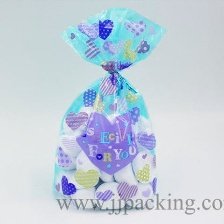snack: (44, 0, 171, 214)
